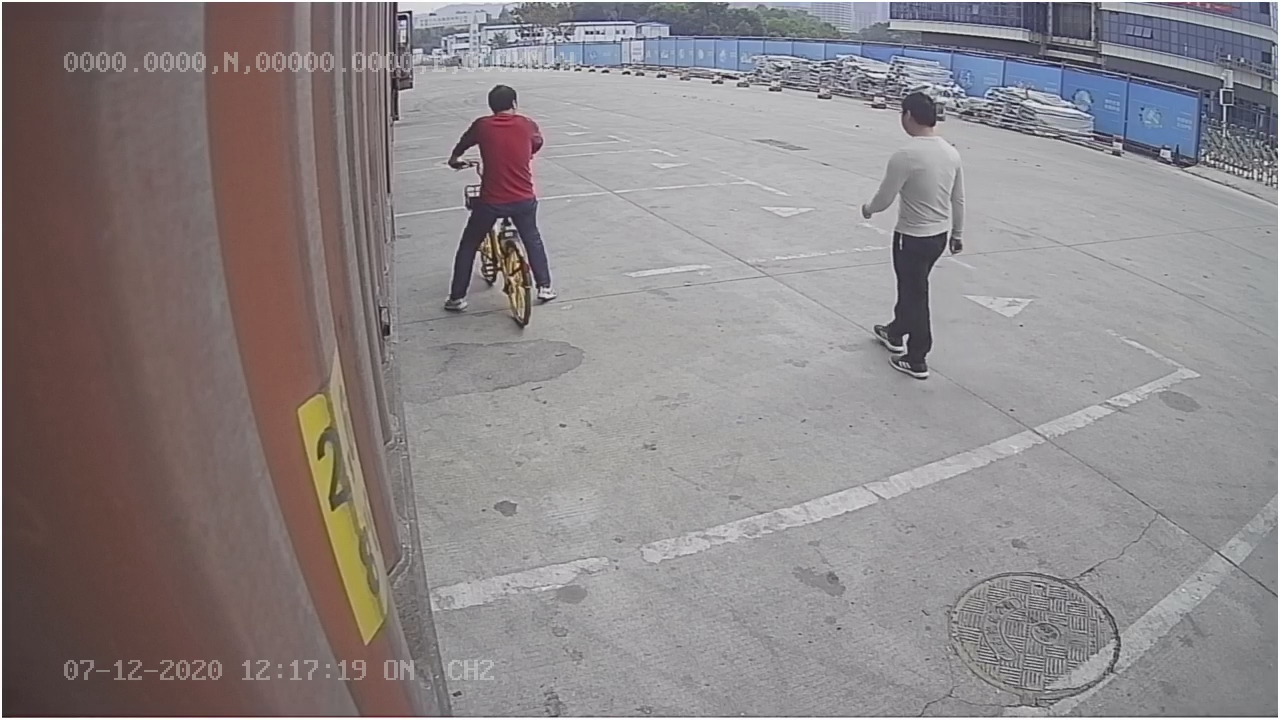person: (861, 90, 967, 379)
